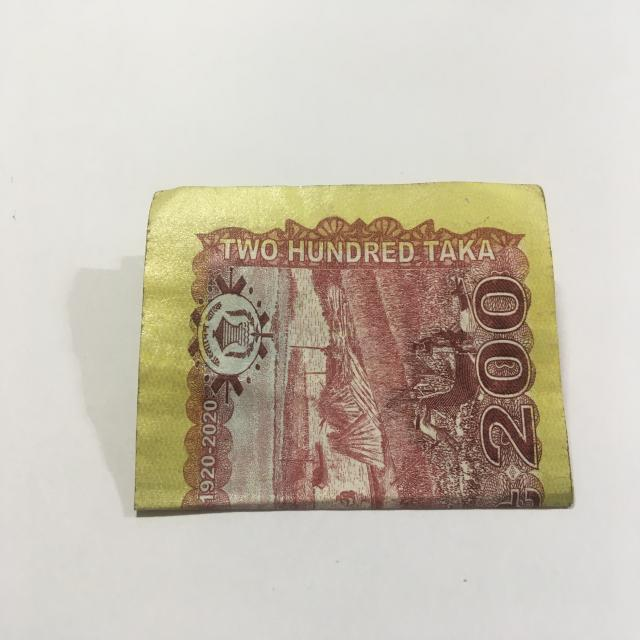Taka: (132, 175, 584, 522)
